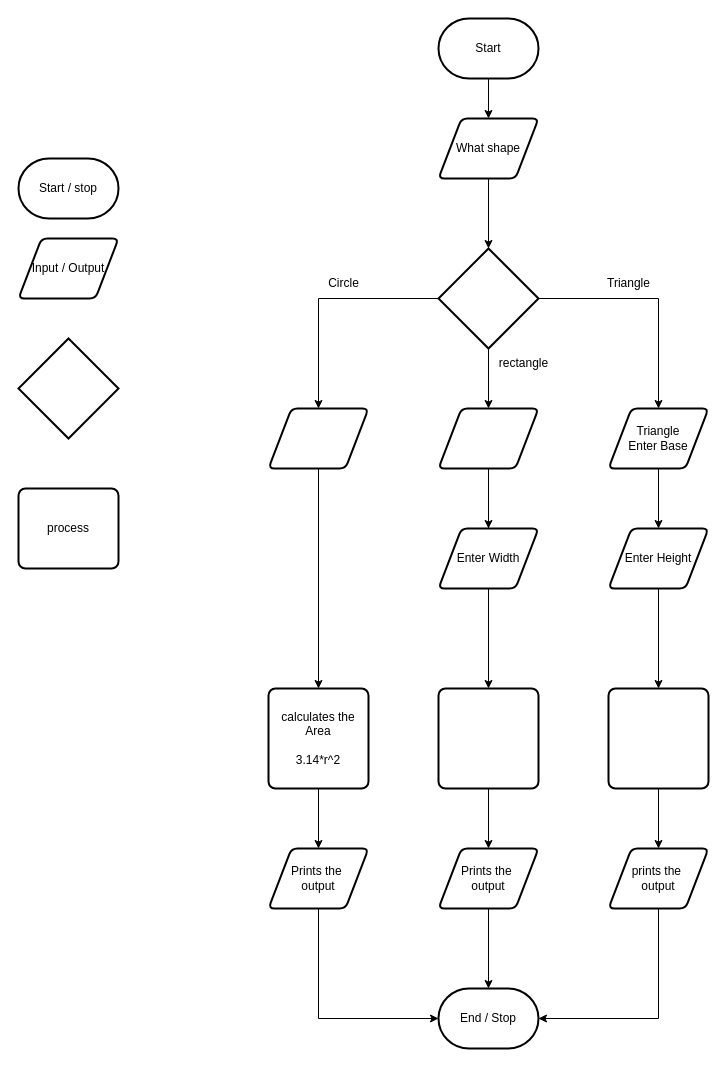
This 726x1066 diagram has some shape labels left out. Each missing label, with the centre of its shape:
Calcs the area 1/2*Base*height: (x=658, y=738)
Calcs the area Length * Width: (x=488, y=738)
Circle Enter radius: (x=318, y=438)
Circle Rectangle Triangle?: (x=488, y=298)
Decision: (x=68, y=388)
Rectangle Enter Length: (x=488, y=438)
